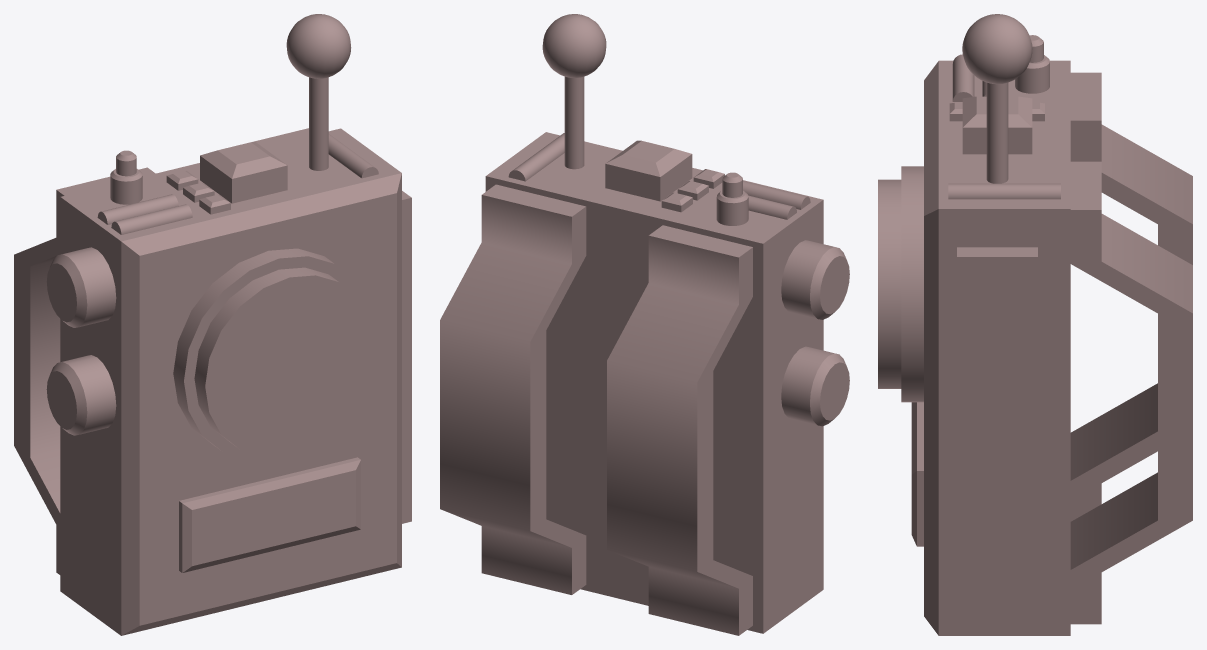
The model's file is dyn_gadget_lightsoutblockout.fbx.
3 renders of one model, left to right at view 1: azimuth 30°, elevation 25°; view 2: azimuth 150°, elevation 25°; view 3: azimuth 270°, elevation 25°, orthographic. The views are drawn at different scales.
Parts seen in each view (by area): view 1: Lights_Out_Gadget_Blockout1_pCube1; view 2: Lights_Out_Gadget_Blockout1_pCube1; view 3: Lights_Out_Gadget_Blockout1_pCube1.
Boxes of the visible parts, left/top/right/bottom form: Lights_Out_Gadget_Blockout1_pCube1: left=14, top=14, right=411, bottom=635; Lights_Out_Gadget_Blockout1_pCube1: left=440, top=14, right=849, bottom=635; Lights_Out_Gadget_Blockout1_pCube1: left=878, top=14, right=1192, bottom=635.
Size of the model in its own units: 10.36 by 16.12 by 7.81.
